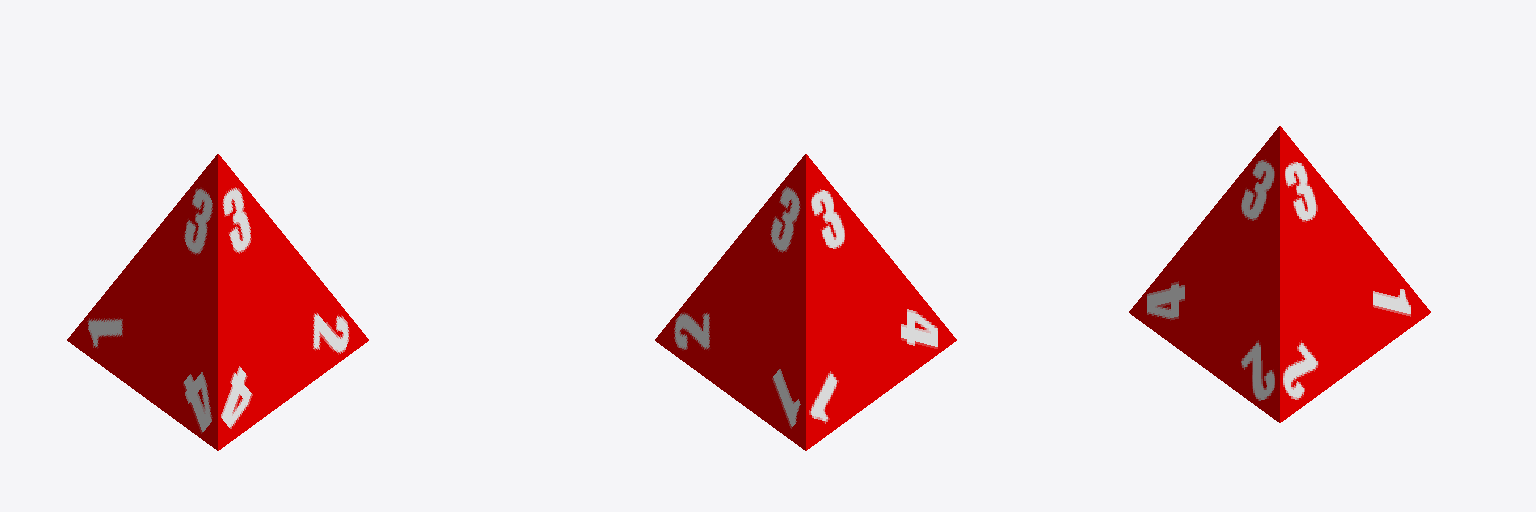
The picture shows the model from 3 angles: view 1: azimuth 30°, elevation 25°; view 2: azimuth 150°, elevation 25°; view 3: azimuth 270°, elevation 25°; orthographic projection.
Visible parts, largest first — view 1: pSolid3; view 2: pSolid3; view 3: pSolid3.
Part boxes in pixels (bbox=[...]): pSolid3: bbox=[67, 154, 368, 450]; pSolid3: bbox=[655, 154, 956, 450]; pSolid3: bbox=[1129, 126, 1430, 422].
Bounding box in the file's own units: 9 × 8.49 × 10.39.
1 materials, 1 textured.